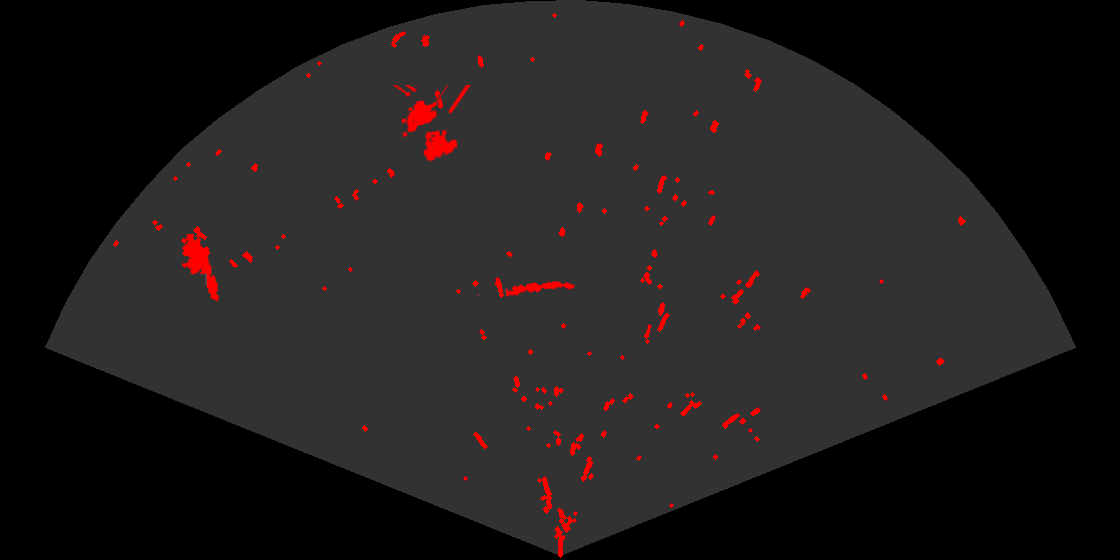cage: (391, 85, 473, 163)
chain: (474, 279, 576, 298)
frogman: (180, 234, 220, 302)
